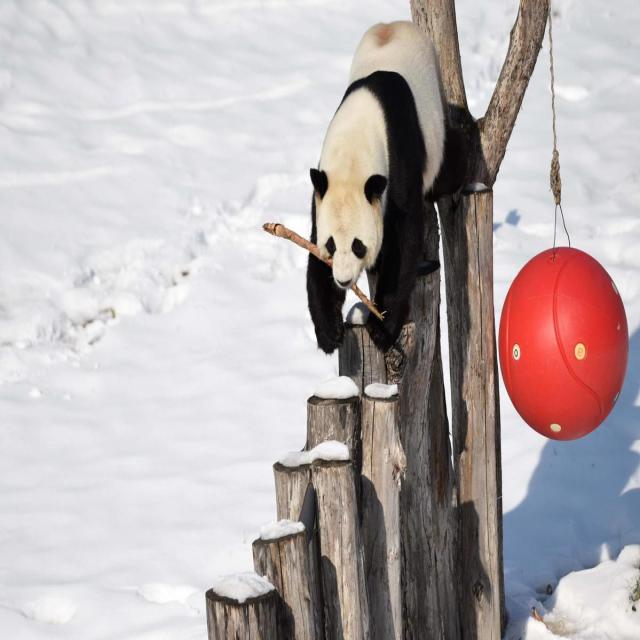panda: (252, 19, 480, 352)
